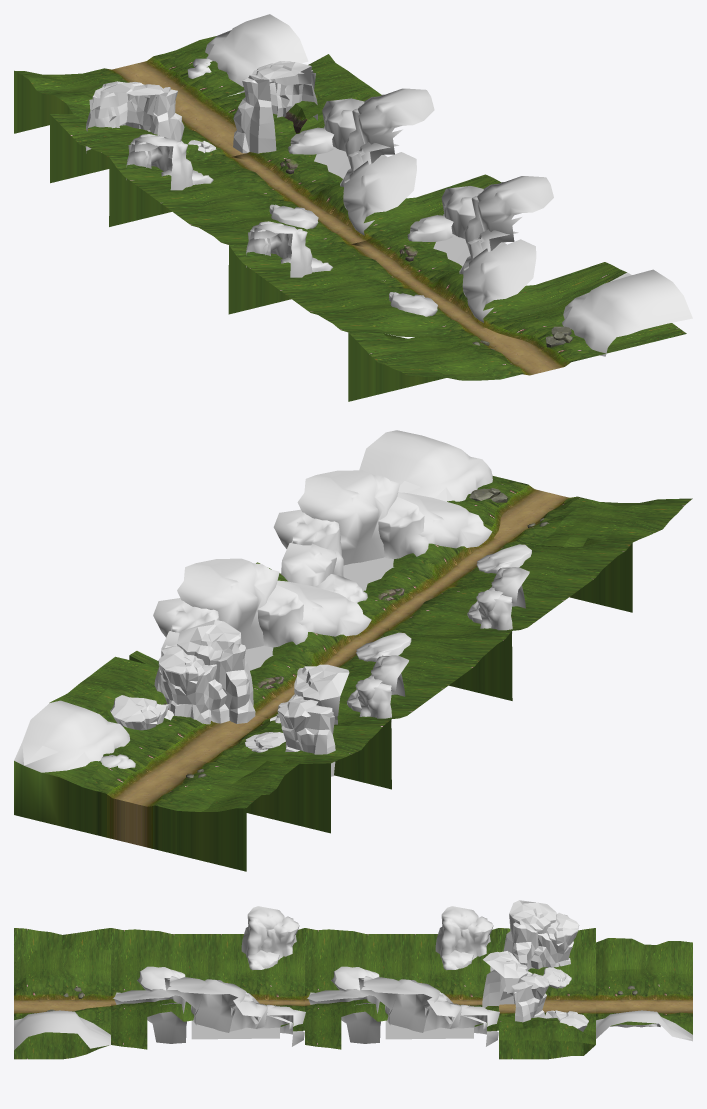
3 renders of one model, top to bottom at view 1: azimuth 30°, elevation 25°; view 2: azimuth 150°, elevation 25°; view 3: azimuth 270°, elevation 25°, orthographic. The views are drawn at different scales.
Visible parts, largest first — view 1: Jungle_oneway_left_loop__1_, Jungle_oneway_left_loop, Jungle_oneway_left_end, Jungle_oneway_left_start, Jungle_Straight_180m_01; view 2: Jungle_oneway_left_loop__1_, Jungle_oneway_left_loop, Jungle_oneway_left_start, Jungle_Straight_180m_01, Jungle_oneway_left_end; view 3: Jungle_oneway_left_loop__1_, Jungle_oneway_left_loop, Jungle_oneway_left_start, Jungle_oneway_left_end, Jungle_Straight_180m_01.
Part boxes in pixels (left/top/right/bottom): Jungle_oneway_left_loop__1_: left=228, top=176, right=626, bottom=336; Jungle_oneway_left_loop: left=109, top=88, right=501, bottom=248; Jungle_oneway_left_end: left=348, top=269, right=692, bottom=401; Jungle_oneway_left_start: left=50, top=54, right=381, bottom=183; Jungle_Straight_180m_01: left=14, top=14, right=308, bottom=133; Jungle_oneway_left_loop__1_: left=256, top=470, right=632, bottom=700; Jungle_oneway_left_loop: left=129, top=558, right=511, bottom=789; Jungle_oneway_left_start: left=49, top=620, right=390, bottom=833; Jungle_Straight_180m_01: left=14, top=700, right=300, bottom=871; Jungle_oneway_left_end: left=359, top=430, right=692, bottom=612; Jungle_oneway_left_loop__1_: left=111, top=906, right=305, bottom=1049; Jungle_oneway_left_loop: left=305, top=906, right=499, bottom=1049; Jungle_oneway_left_start: left=482, top=900, right=595, bottom=1059; Jungle_oneway_left_end: left=14, top=928, right=110, bottom=1059; Jungle_Straight_180m_01: left=596, top=938, right=692, bottom=1041.
Size of the model in its own units: 49668 by 19691 by 126000.
